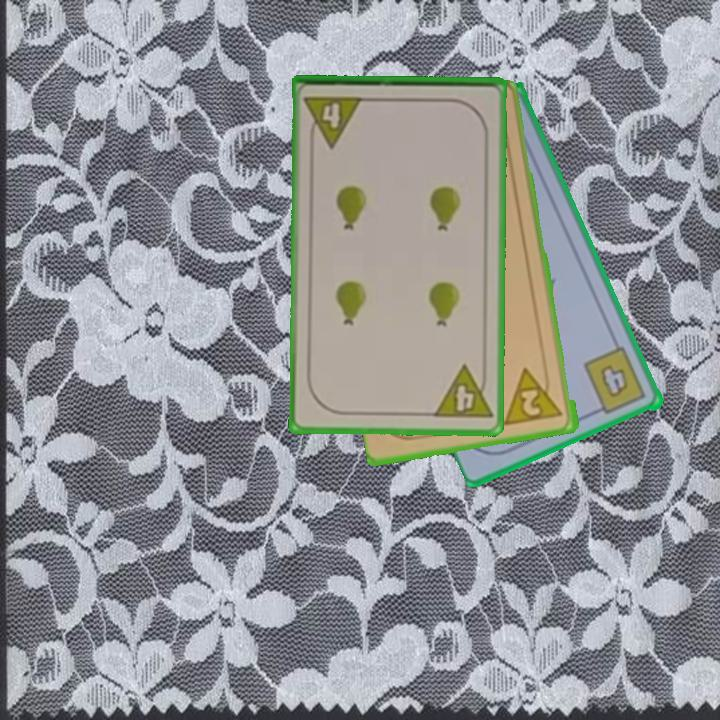2p: (502, 363, 567, 429)
4b: (580, 344, 650, 418)
4p: (430, 362, 495, 422), (301, 92, 366, 150)
